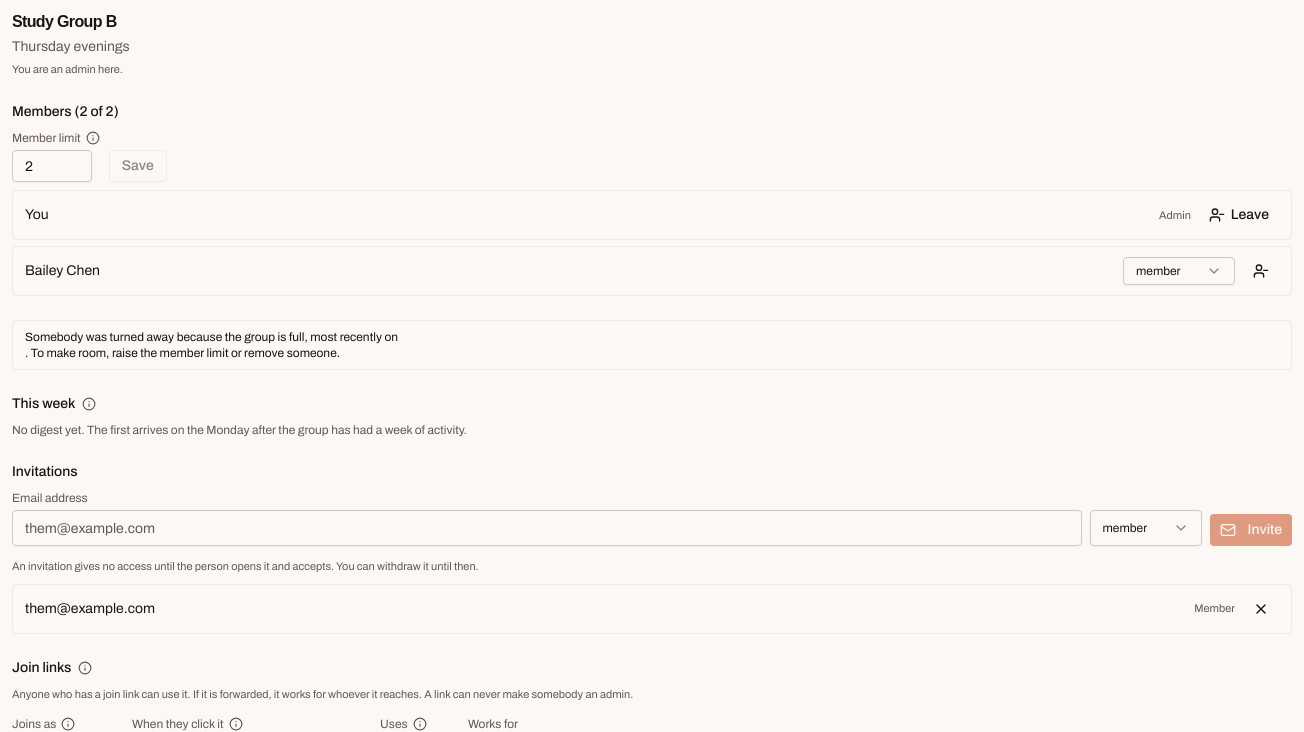
it: GroupDetail › updates the "N of M" count and clears the full-group notice on a successful save
expect the text "Somebody was turned away because the group is full" is shown: met, box [25,330,398,344]
Replace the text in the number field with id "group-member-limit" with "10" at (52, 166), box [12,150,92,182]
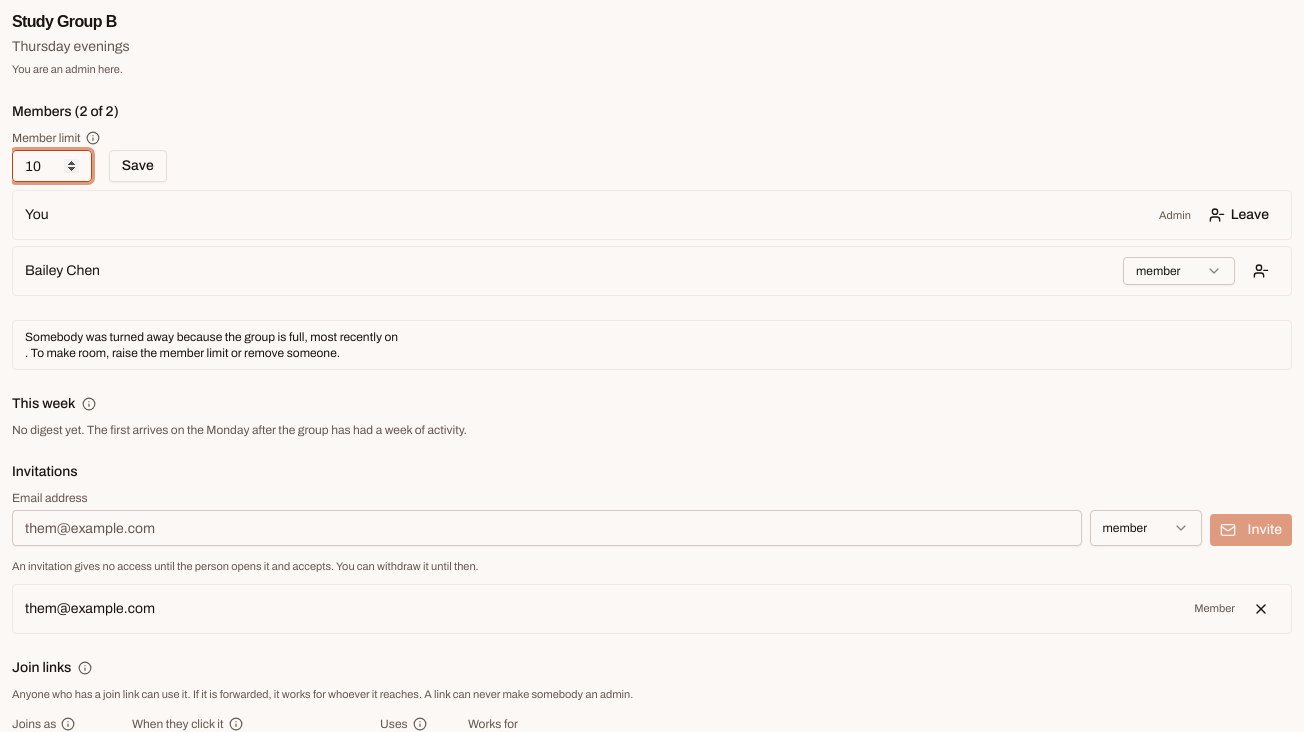
Click the button "Save" at (138, 166), box [109,150,167,182]
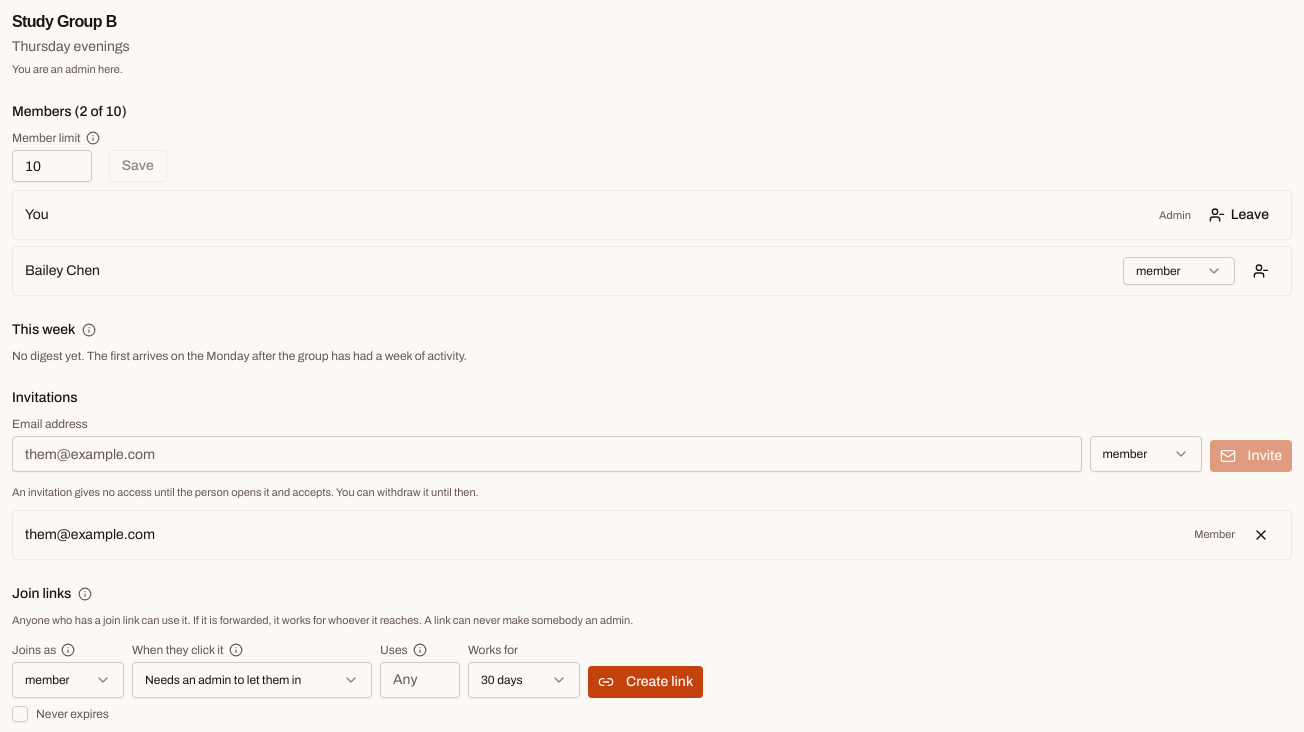
expect the heading "Members (2 of 10)" is shown: met, box [12,104,127,119]
expect the text "Somebody was turned away because the group is full" is gone: met
